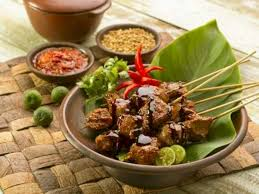sate: (77, 74, 220, 176)
